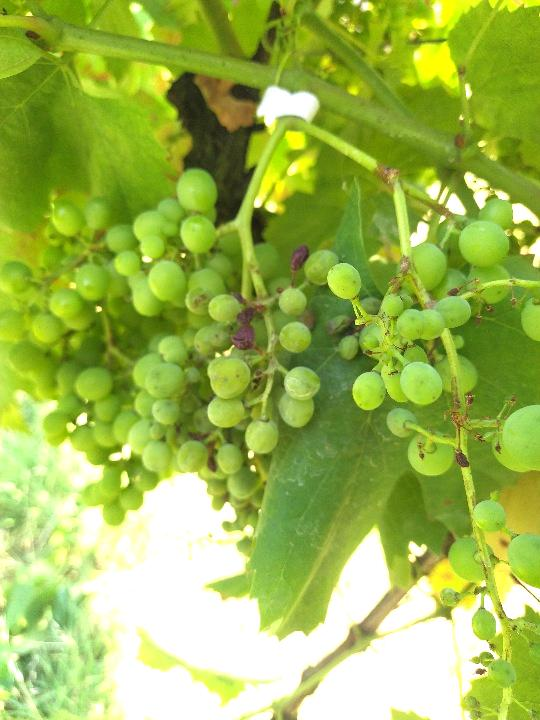grape: (105, 170, 341, 502)
